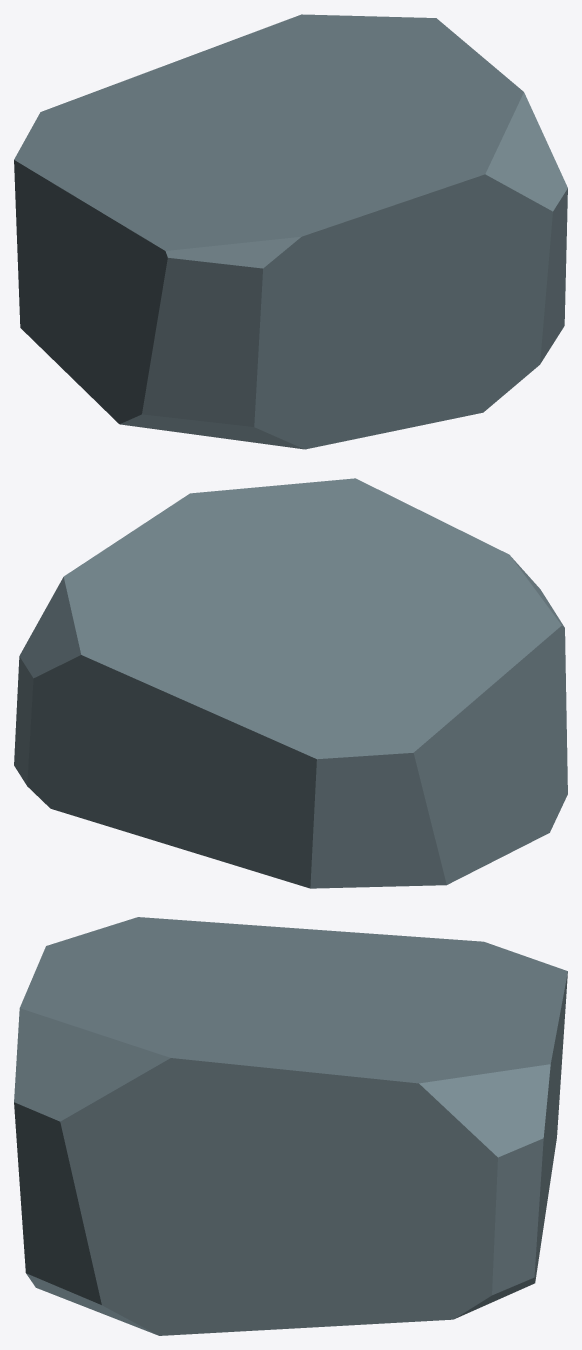
Rendered from rock3_detail-procedural.glb.
The picture shows the model from 3 angles, top to bottom: view 1: azimuth 30°, elevation 25°; view 2: azimuth 150°, elevation 25°; view 3: azimuth 270°, elevation 25°; orthographic projection. The views are drawn at different scales.
Parts seen in each view (by area): view 1: rock3_detail; view 2: rock3_detail; view 3: rock3_detail.
Boxes of the visible parts, x1=… form: rock3_detail: x1=14, y1=14, x2=567, y2=449; rock3_detail: x1=14, y1=478, x2=567, y2=888; rock3_detail: x1=14, y1=917, x2=567, y2=1335.
Size of the model in its own units: 2.16 by 1.22 by 2.12.
